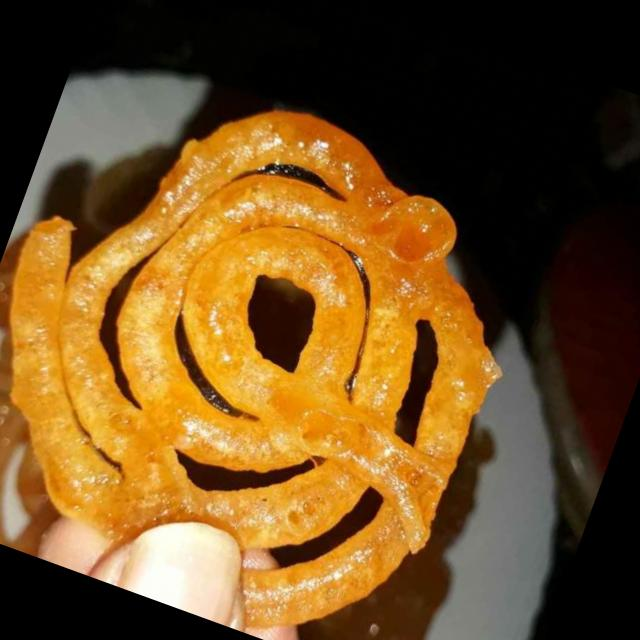jalebi: (0, 31, 553, 640)
